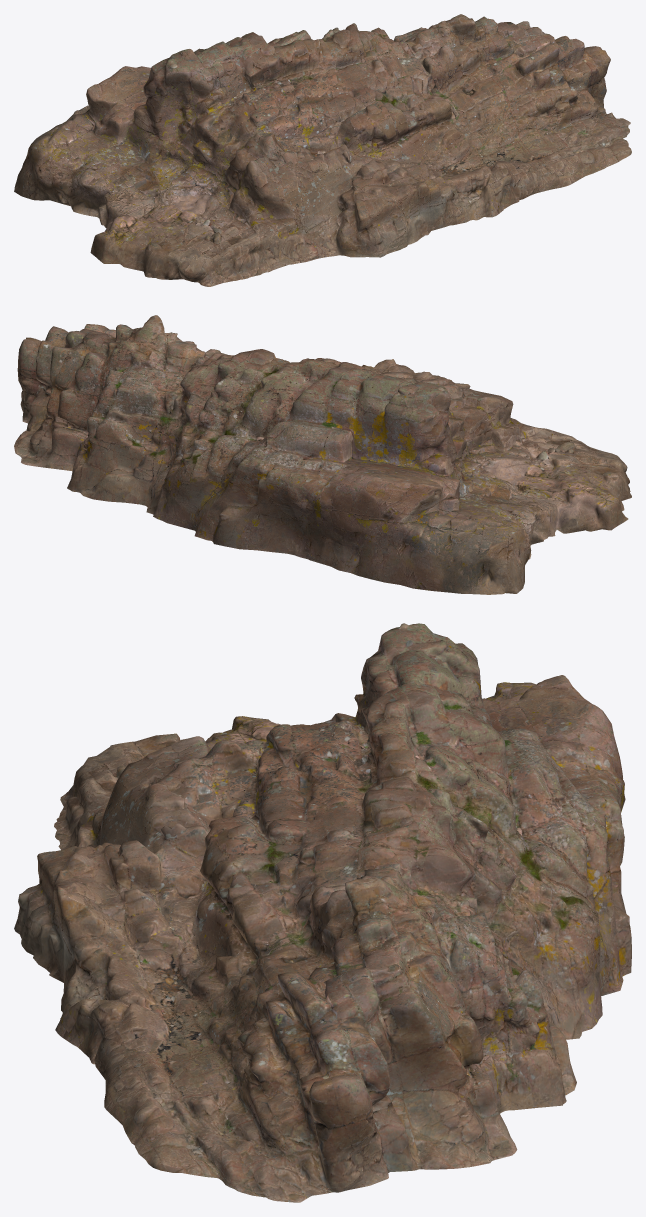
File: Rock2.fbx
3 renders of one model, top to bottom at view 1: azimuth 30°, elevation 25°; view 2: azimuth 150°, elevation 25°; view 3: azimuth 270°, elevation 25°, orthographic. The views are drawn at different scales.
Parts seen in each view (by area): view 1: Aset_nature_rock_L_vfgkajyga_LOD0; view 2: Aset_nature_rock_L_vfgkajyga_LOD0; view 3: Aset_nature_rock_L_vfgkajyga_LOD0.
Boxes of the visible parts, x1,y1,x2,y2 form: Aset_nature_rock_L_vfgkajyga_LOD0: [14, 14, 631, 286]; Aset_nature_rock_L_vfgkajyga_LOD0: [14, 315, 631, 594]; Aset_nature_rock_L_vfgkajyga_LOD0: [14, 623, 631, 1202].
Bounding box in the file's own units: 499 × 120 × 288.
Materials: 1 (1 with a texture image).
